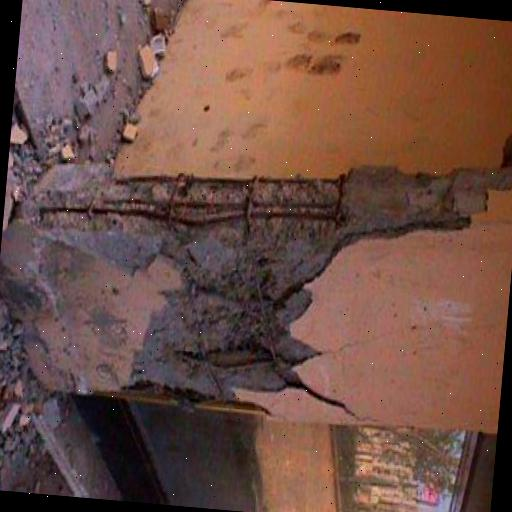spalling: (27, 158, 502, 408)
